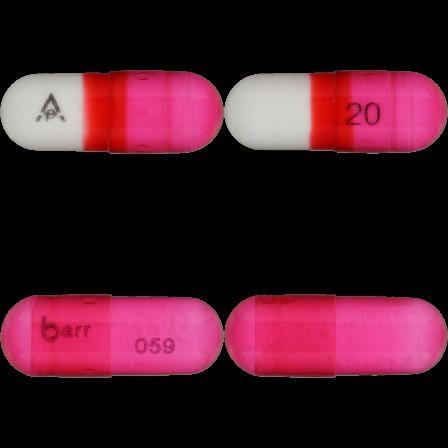67046-124: (0, 0, 224, 224)
